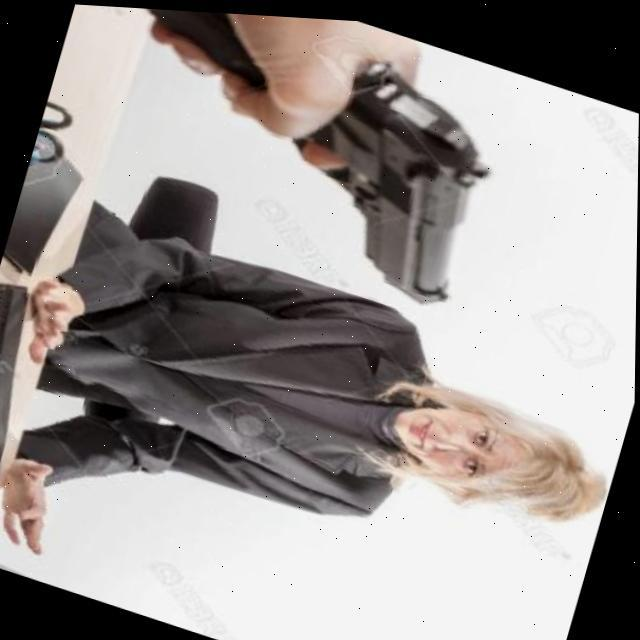gun: (64, 3, 515, 312)
